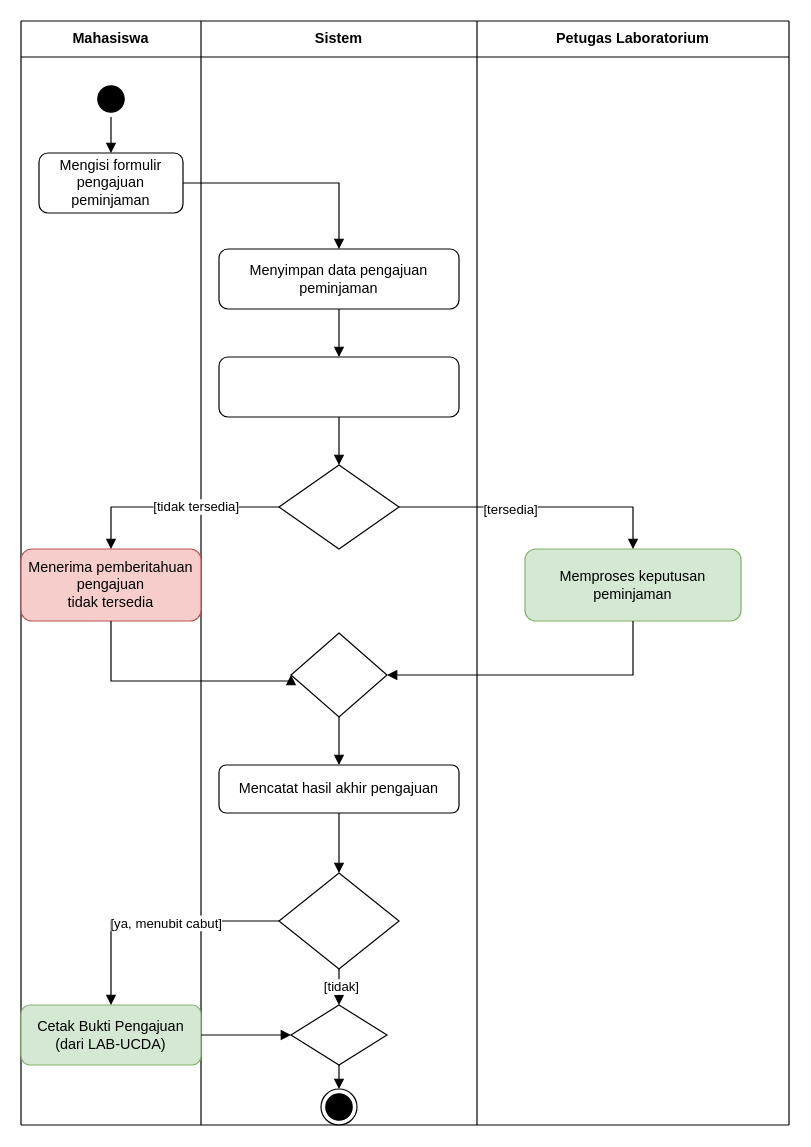
The diagram is 811 pixels wide and 1147 high, and some of its shapes have lost their labels. The centre of each missing label's shape, as x and y in pixels:
"Mahasiswa menubit cabut?" goes at pixel 338 920.
"Peralatan tersedia?" goes at pixel 338 506.
"Periksa Ketersediaan (dari LAB-UCDA)" goes at pixel 338 386.
